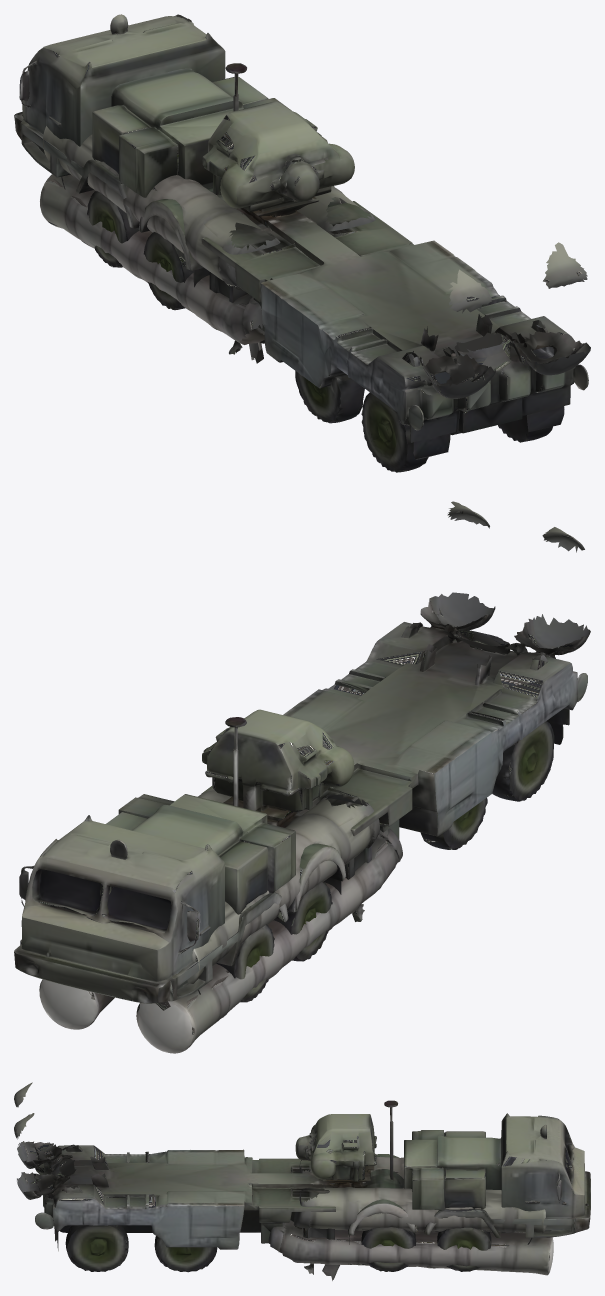
3 renders of one model, top to bottom at view 1: azimuth 30°, elevation 25°; view 2: azimuth 150°, elevation 25°; view 3: azimuth 270°, elevation 25°, orthographic. The views are drawn at different scales.
Parts seen in each view (by area): view 1: body|material_0, cradle|material_0; view 2: body|material_0, cradle|material_0; view 3: body|material_0, cradle|material_0.
Boxes of the visible parts, left/top/right/bottom form: body|material_0: left=14, top=14, right=590, bottom=472; cradle|material_0: left=40, top=126, right=375, bottom=363; body|material_0: left=14, top=501, right=590, bottom=1003; cradle|material_0: left=39, top=787, right=402, bottom=1053; body|material_0: left=14, top=1082, right=590, bottom=1272; cradle|material_0: left=268, top=1156, right=553, bottom=1280.
Bounding box in the file's own units: 3.2 × 4.52 × 13.42.
2 materials, 2 textured.
